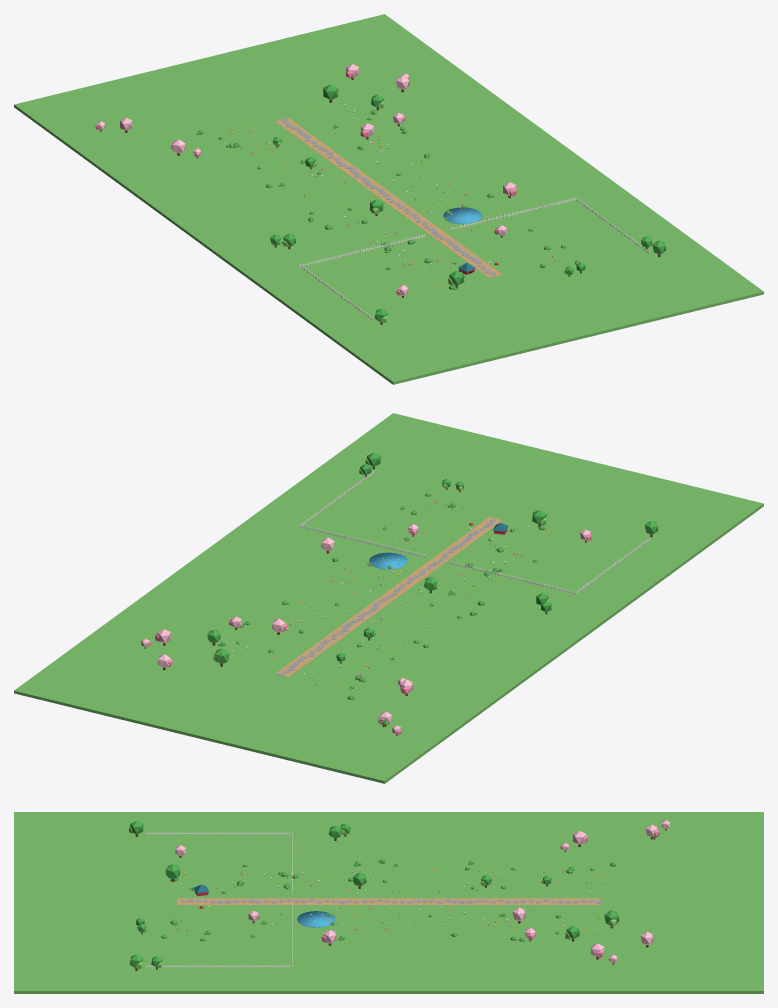
3 views of the same model, one above another, from view 1: azimuth 30°, elevation 25°; view 2: azimuth 150°, elevation 25°; view 3: azimuth 270°, elevation 25° (orthographic).
Visible parts, largest first — view 1: Ground, Path; view 2: Ground, Path; view 3: Ground, Path, Pond.
Boxes of the visible parts, x1,y1,x2,y2 form: Ground: [14, 14, 763, 384]; Path: [275, 118, 502, 277]; Ground: [14, 413, 763, 783]; Path: [275, 517, 502, 676]; Ground: [14, 812, 763, 993]; Path: [177, 898, 600, 904]; Pond: [297, 911, 335, 927].
Size of the model in its own units: 70 by 4.39 by 124.
